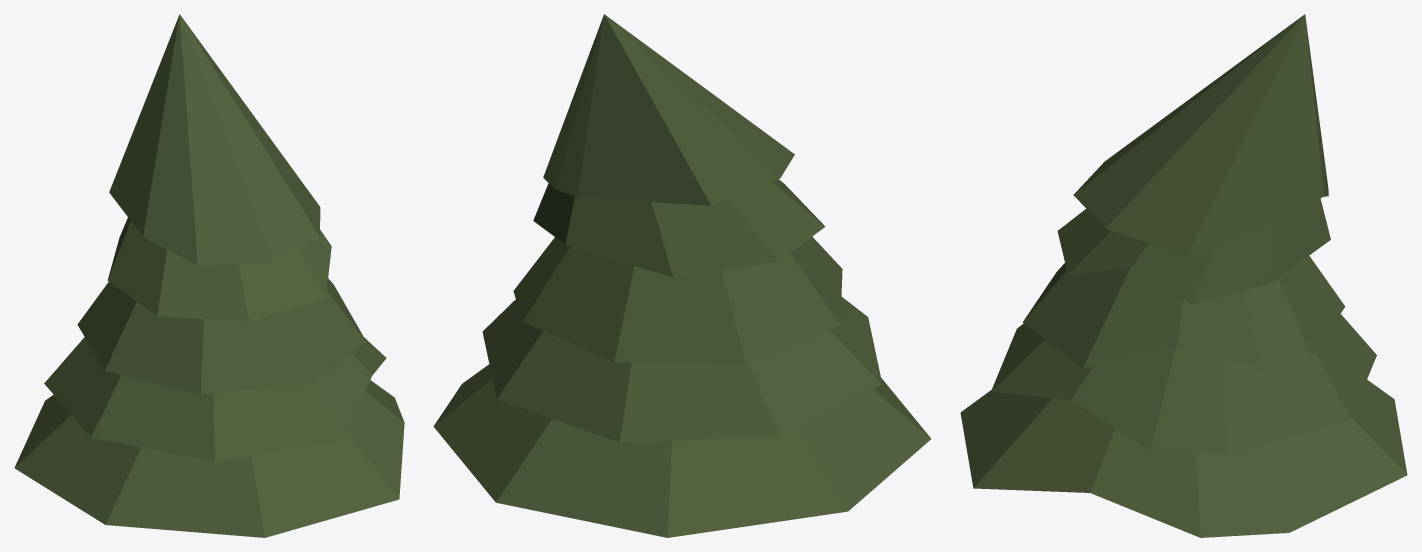
The model's file is CONIFEROUSleaves2CF1-1-GO.fbx.
3 renders of one model, left to right at view 1: azimuth 30°, elevation 25°; view 2: azimuth 150°, elevation 25°; view 3: azimuth 270°, elevation 25°, orthographic. The views are drawn at different scales.
Visible parts, largest first — view 1: Cylinder.011; view 2: Cylinder.011; view 3: Cylinder.011.
Boxes of the visible parts, <box> form: Cylinder.011: <box>14,14,404,537</box>; Cylinder.011: <box>433,14,931,537</box>; Cylinder.011: <box>960,14,1407,537</box>.
Bounding box in the file's own units: 267 × 283 × 262.
